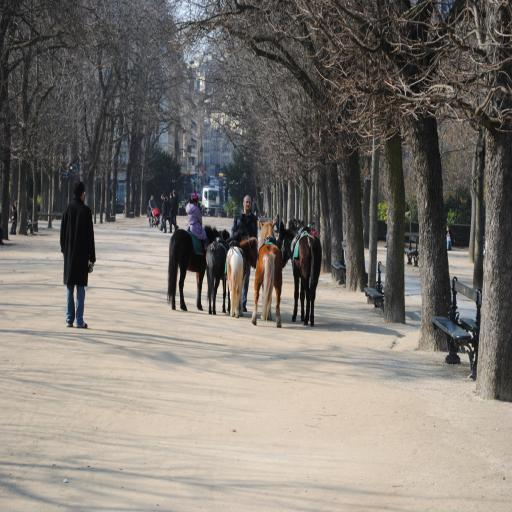horse: (166, 224, 230, 310), (292, 216, 324, 326), (250, 220, 282, 330), (224, 234, 258, 321), (204, 235, 232, 316)
